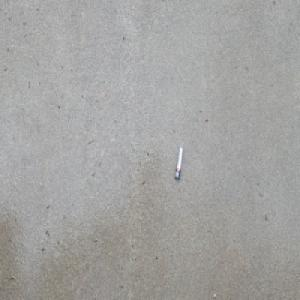Battery: (175, 147, 183, 181)
